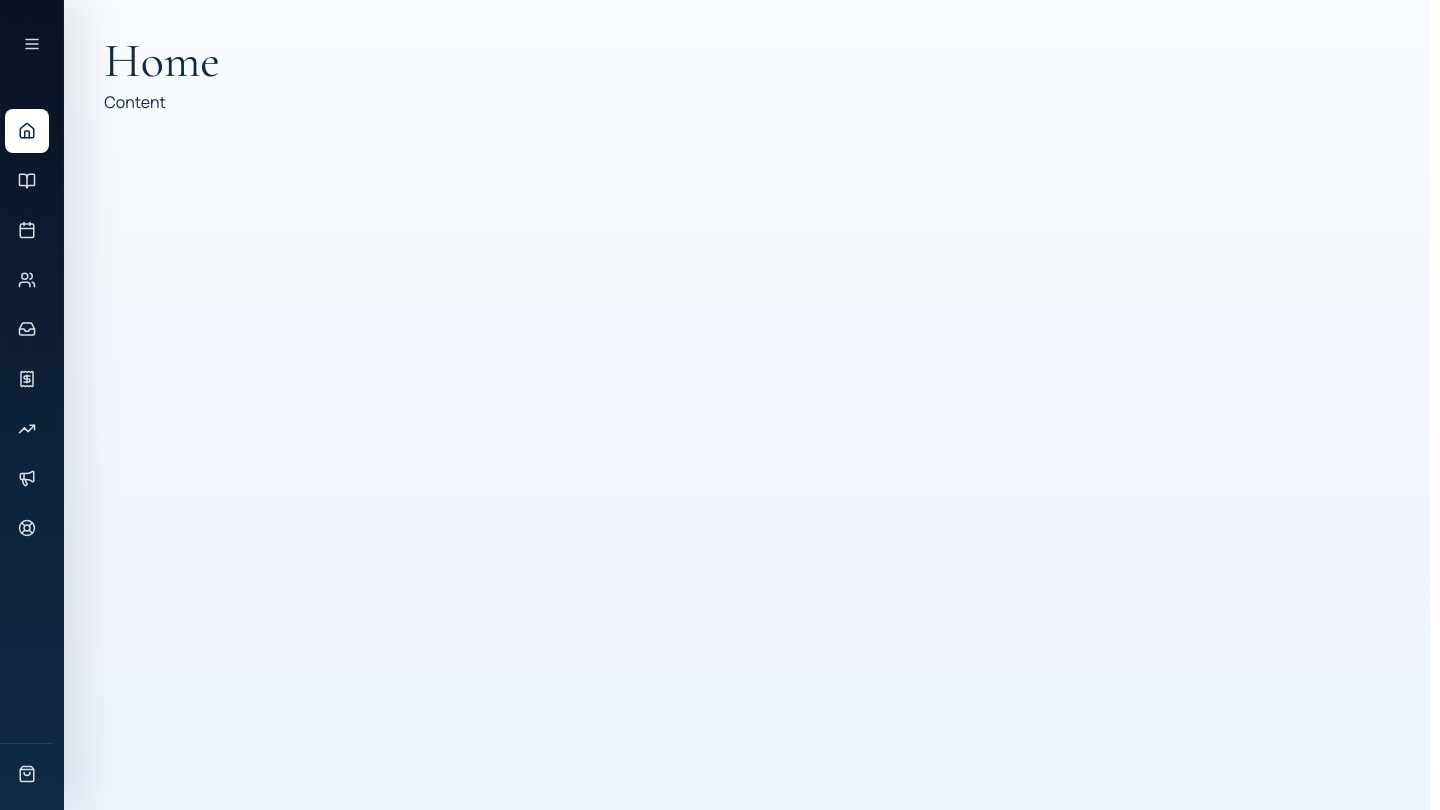
Test: grupos e Ajuda com a barra recolhida › no desktop, Promote recolhido abre a própria barra já no grupo
What coordinates should you click on to do the following:
click the button named "Open Promote navigation"
I would click on:
 (26, 478)
Its box is x1=4 y1=456 x2=48 y2=500.
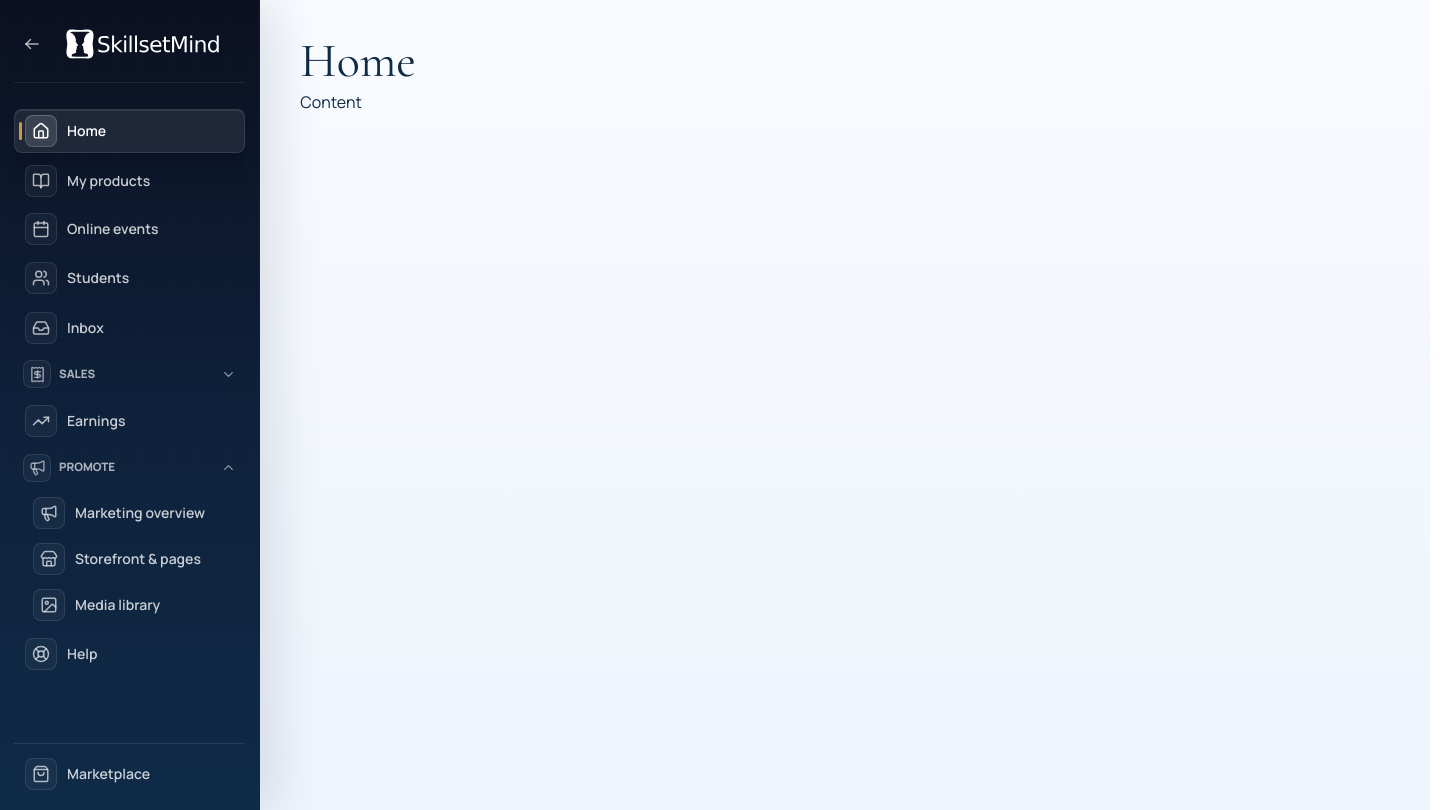
Check: the button "Promote" is expanded, box x1=14 y1=449 x2=245 y2=487
